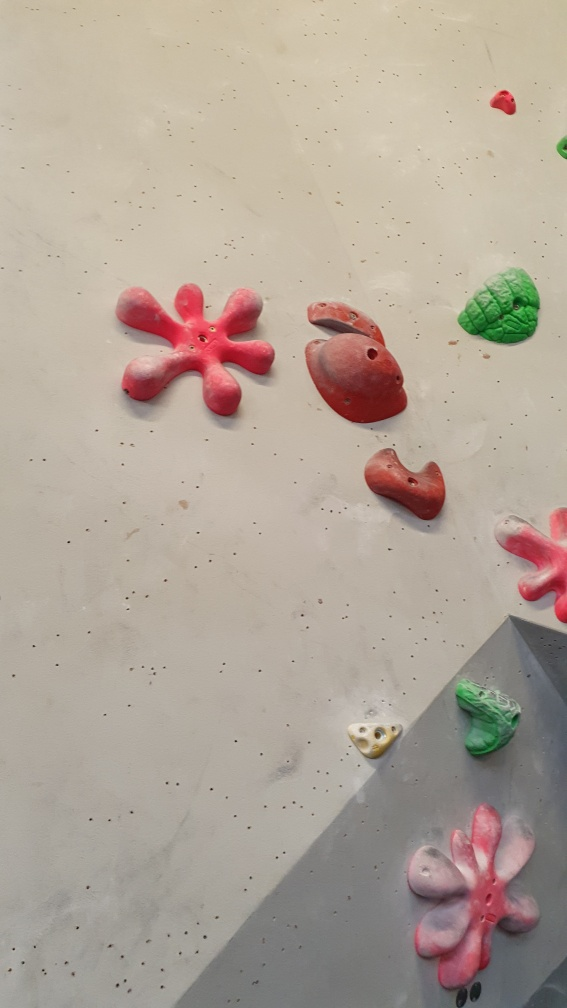Octopus Pinch: (407, 804, 543, 992), (115, 277, 277, 424), (496, 495, 567, 627)
